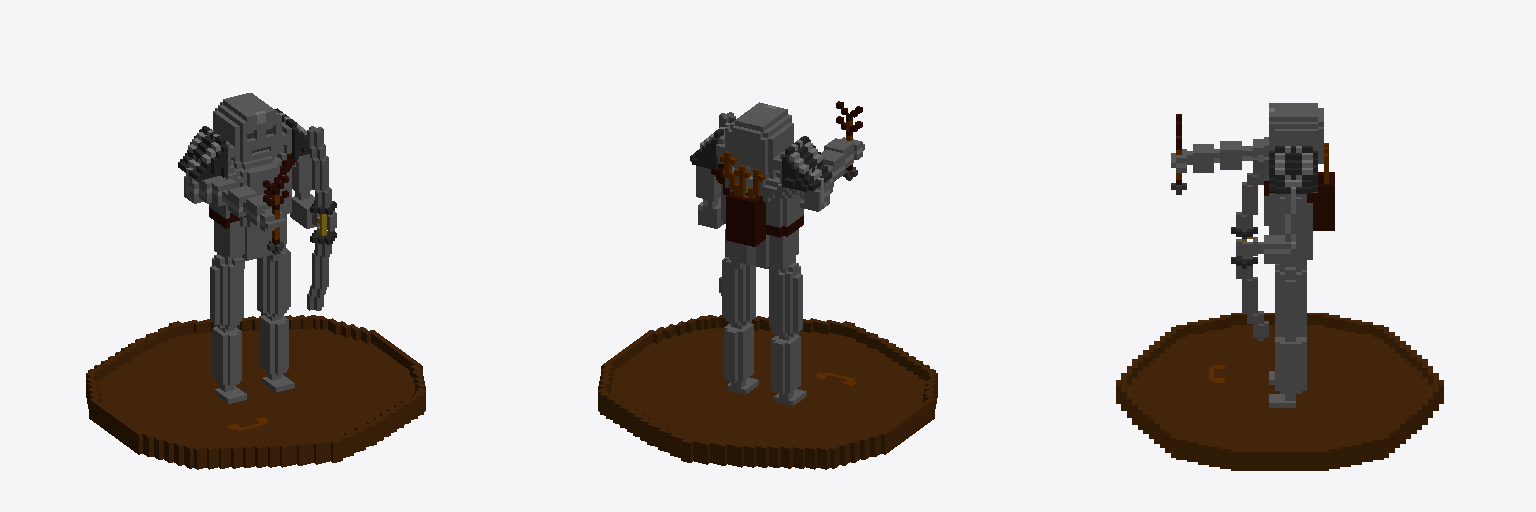
3 renders of one model, left to right at view 1: azimuth 30°, elevation 25°; view 2: azimuth 150°, elevation 25°; view 3: azimuth 270°, elevation 25°, orthographic.
Visible parts, largest first — view 1: Model; view 2: Model; view 3: Model.
Part boxes in pixels (x1,y1,x2,y2): Model: (86, 93, 425, 469); Model: (598, 101, 937, 469); Model: (1116, 103, 1443, 470).
Size of the model in its own units: 32 by 31.47 by 32.
Materials: 1 (1 with a texture image).